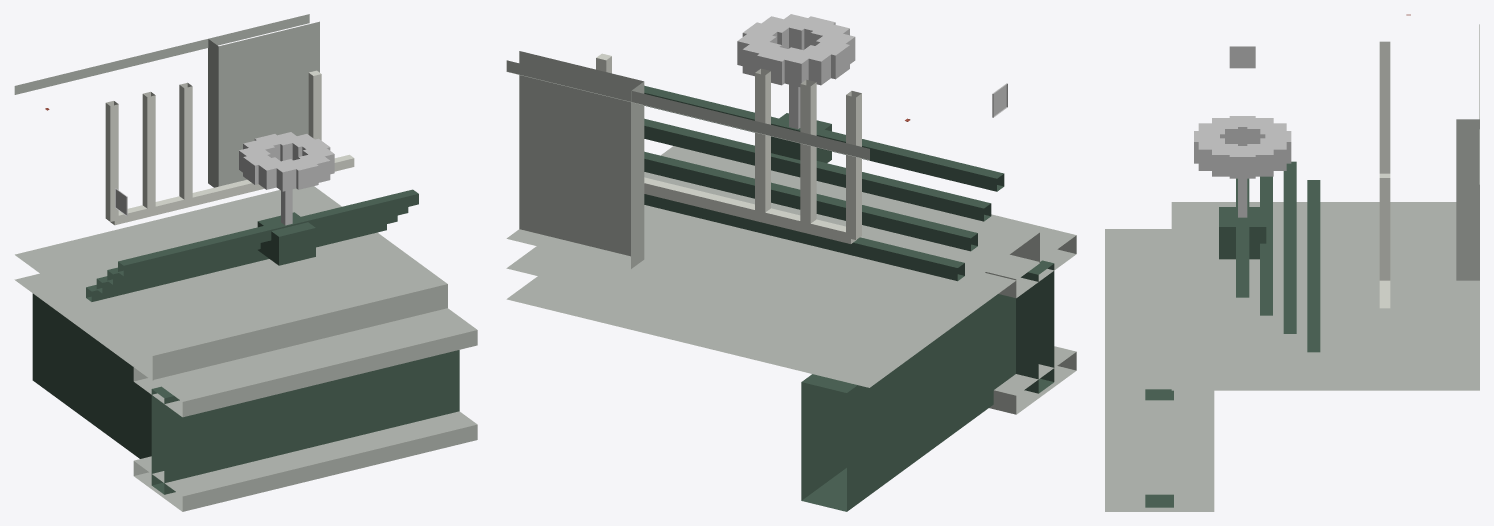
The model's file is cell_9.obj.
3 views of the same model, side by side, from view 1: azimuth 30°, elevation 25°; view 2: azimuth 150°, elevation 25°; view 3: azimuth 270°, elevation 25° (orthographic). The views are drawn at different scales.
Size of the model in its own units: 1 by 0.9812 by 0.9875.
